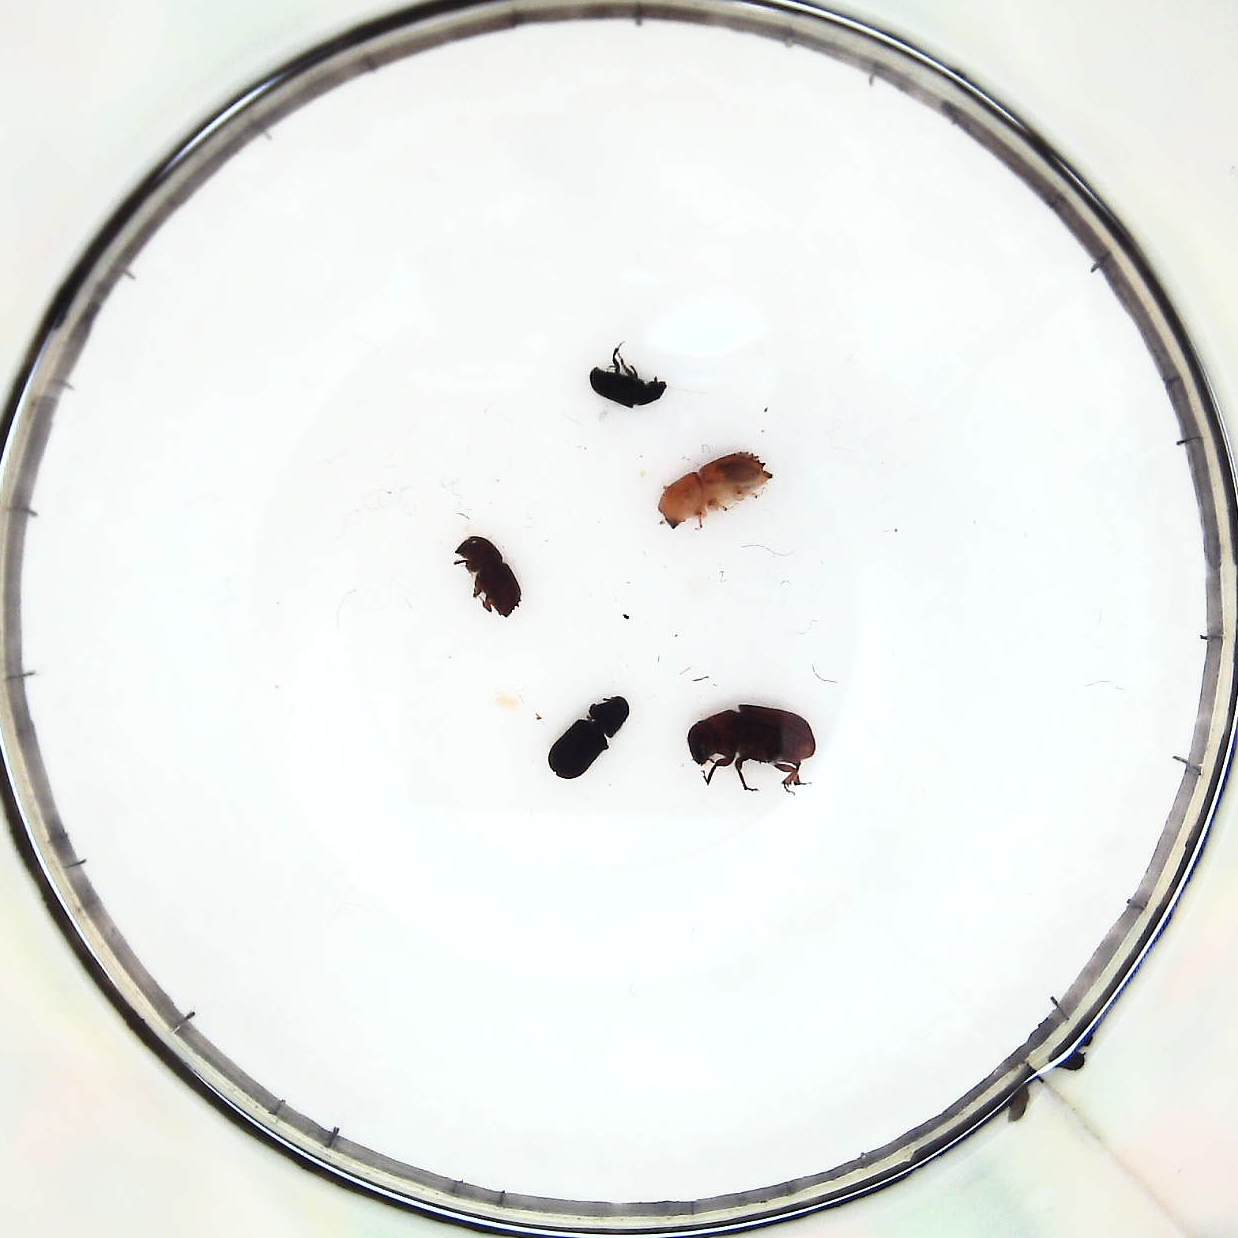Boerner: (655, 453, 771, 526)
Leconte: (689, 699, 821, 794)
Linnaeus: (449, 529, 528, 621)
armandi: (545, 687, 631, 781)
coleoptera: (583, 354, 667, 412)
